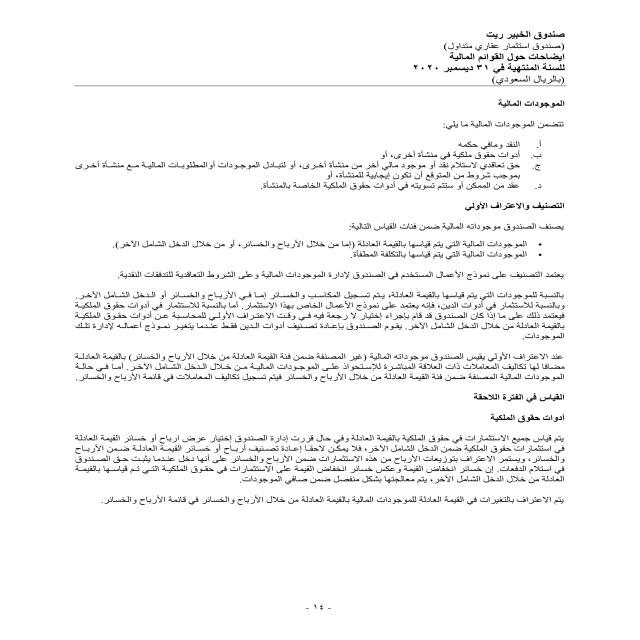notes: (430, 54, 574, 65)
text: (31, 97, 582, 518)
